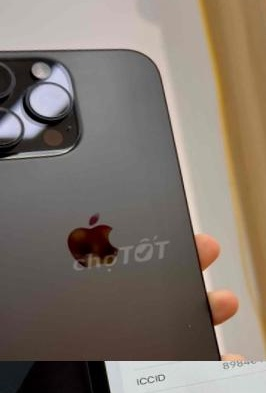scratch: (174, 306, 212, 341), (0, 86, 18, 104), (0, 100, 9, 117)
